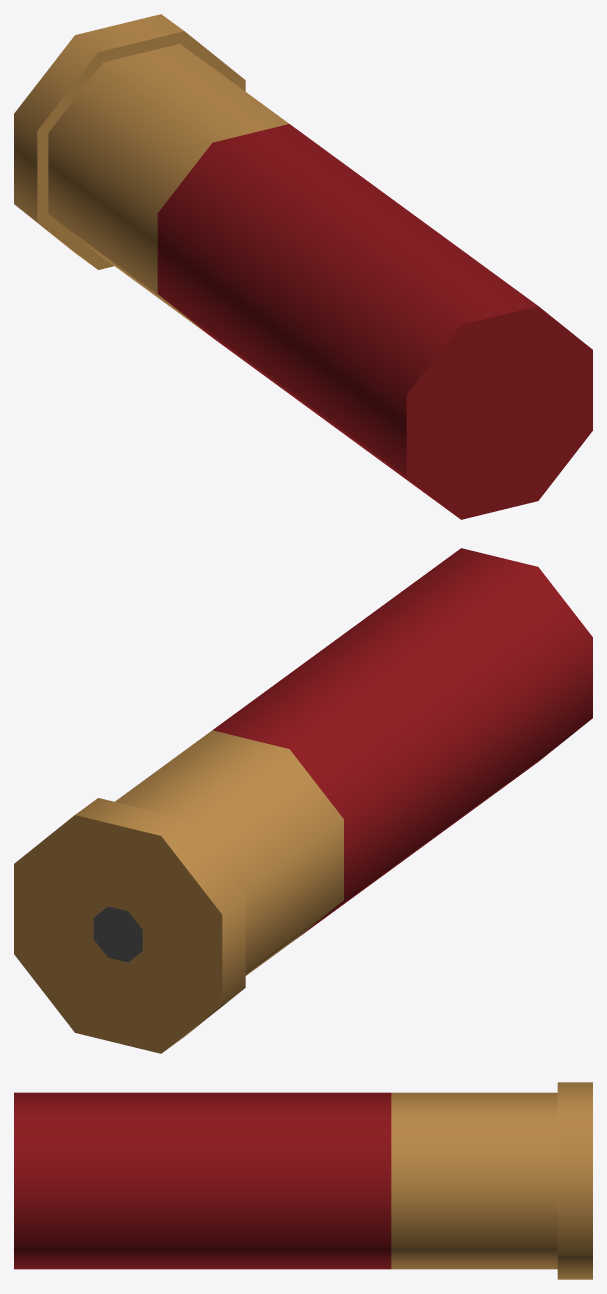
File: Shotgun Shell.fbx
The picture shows the model from 3 angles, top to bottom: view 1: azimuth 30°, elevation 25°; view 2: azimuth 150°, elevation 25°; view 3: azimuth 270°, elevation 25°; orthographic projection. The views are drawn at different scales.
Visible parts, largest first — view 1: Shotgun Shell; view 2: Shotgun Shell; view 3: Shotgun Shell.
Boxes of the visible parts, x1=… form: Shotgun Shell: x1=14, y1=14, x2=592, y2=519; Shotgun Shell: x1=14, y1=548, x2=592, y2=1053; Shotgun Shell: x1=14, y1=1082, x2=592, y2=1279.
Size of the model in its own units: 4.36 by 4.36 by 13.84.
